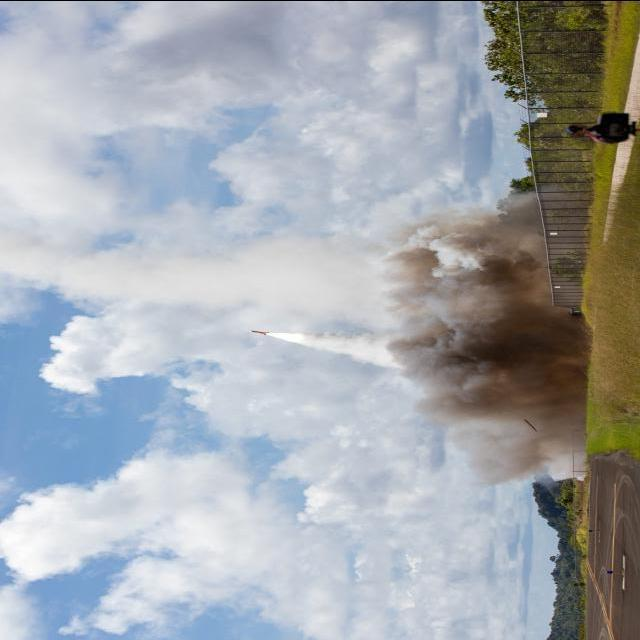Missile: (247, 329, 270, 335)
